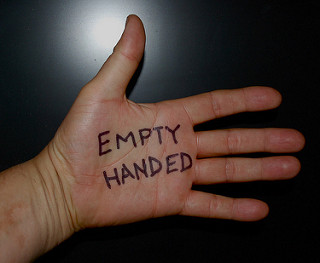palm: (72, 108, 196, 214)
